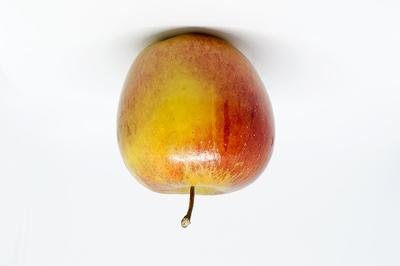apple: (0, 0, 400, 266)
